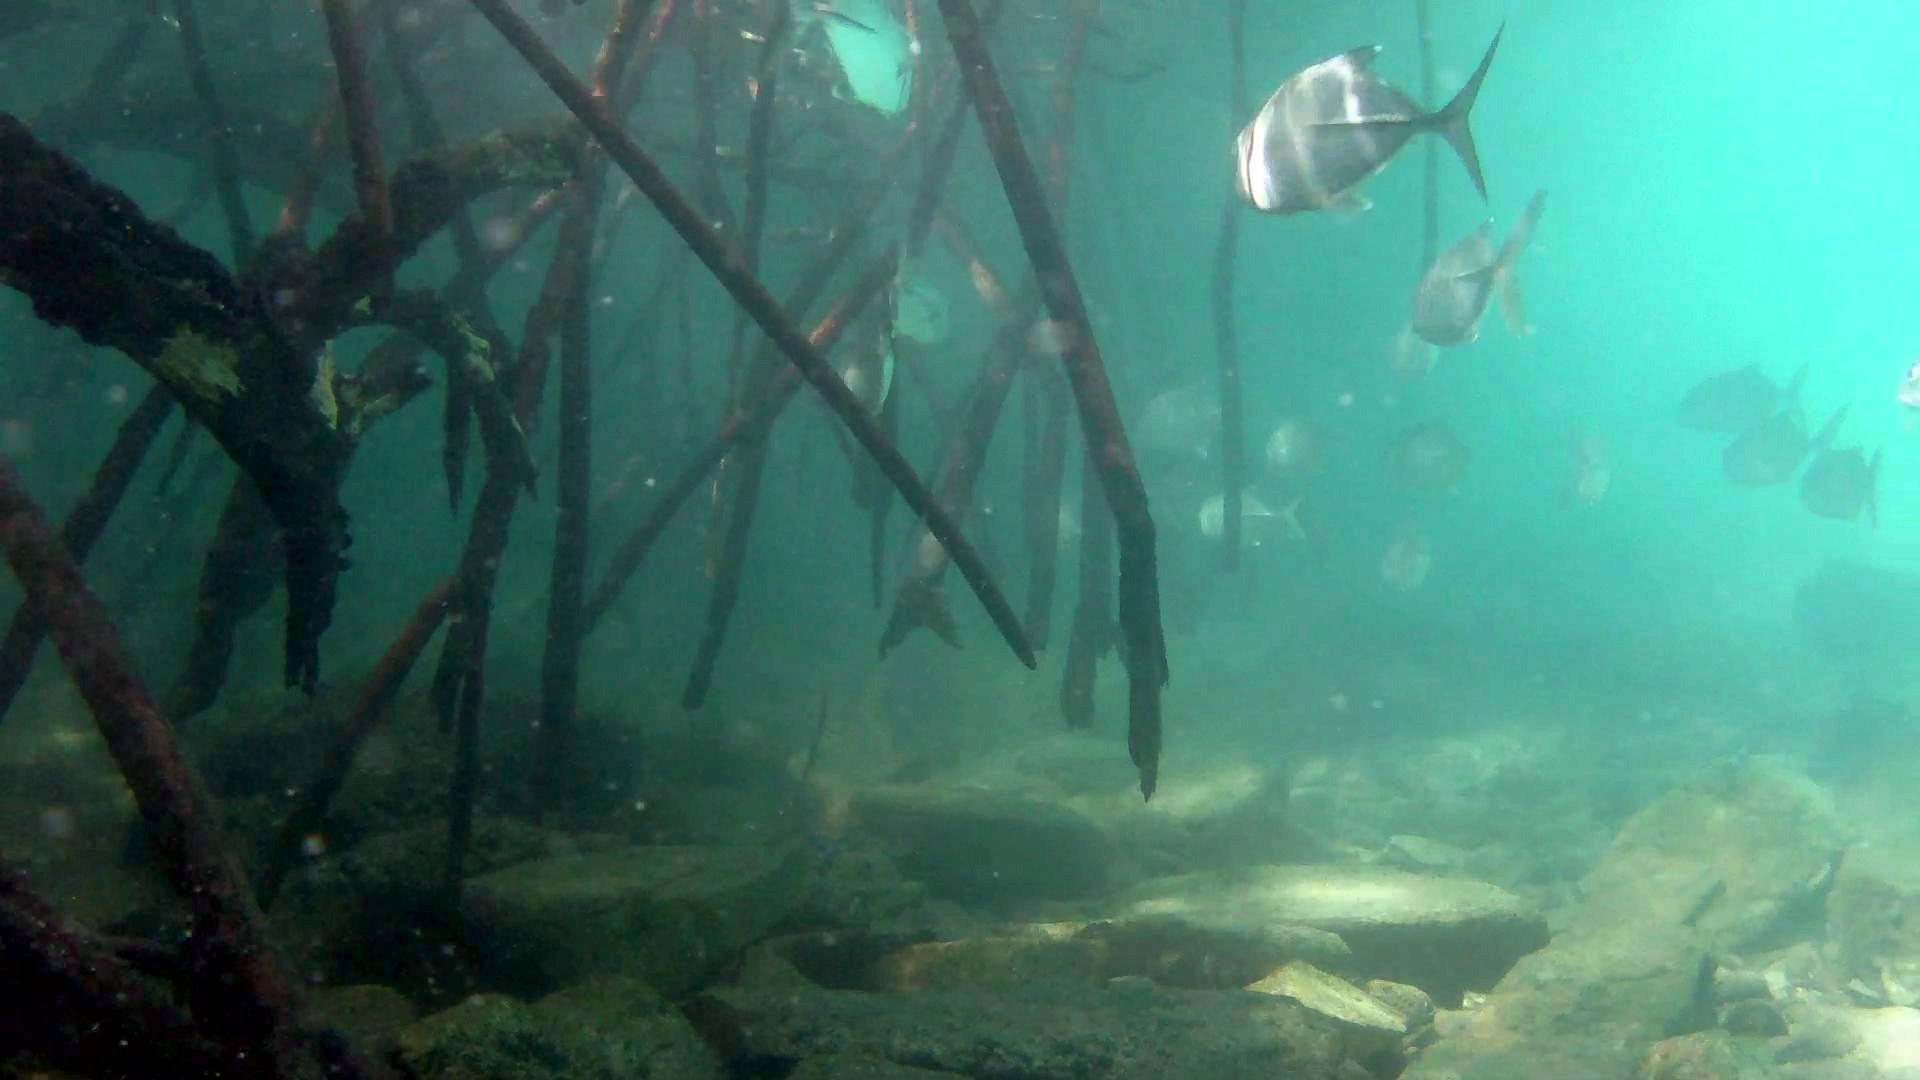caranx: (1220, 28, 1536, 219), (1393, 190, 1553, 344), (742, 0, 924, 128)
